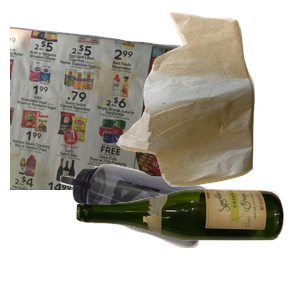glass: (74, 186, 300, 300)
paper: (10, 21, 222, 201)
plastic: (58, 162, 261, 300)
trash: (114, 10, 300, 189)
